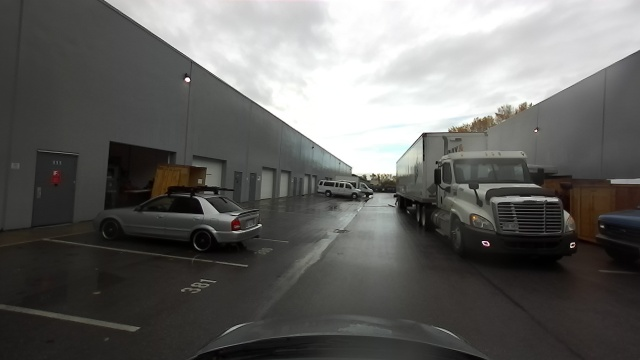car: (391, 131, 579, 261), (95, 185, 264, 256), (316, 178, 361, 202)
